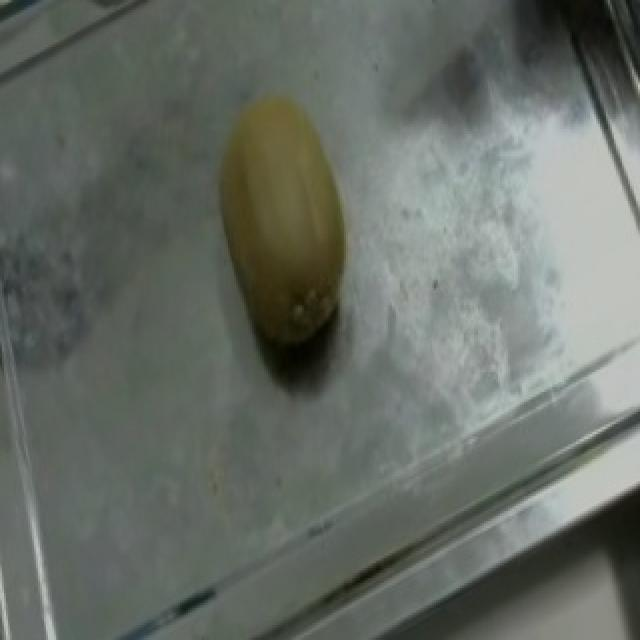Fruit: (176, 67, 390, 380)
